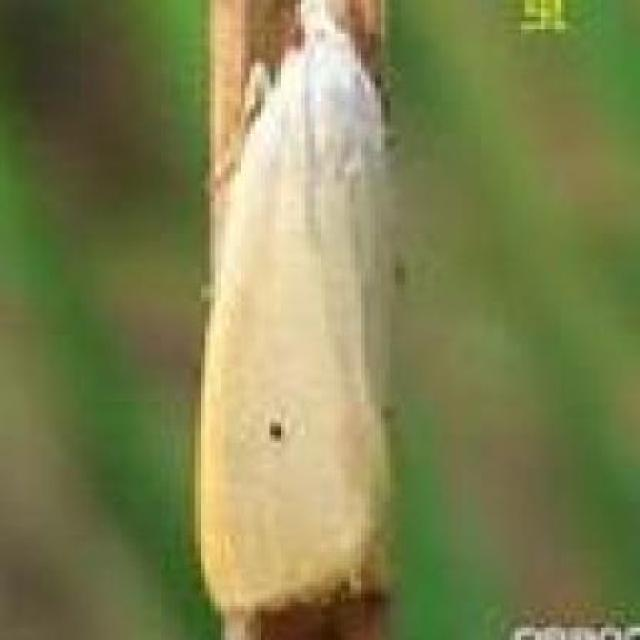stem-borer: (193, 0, 409, 620)
